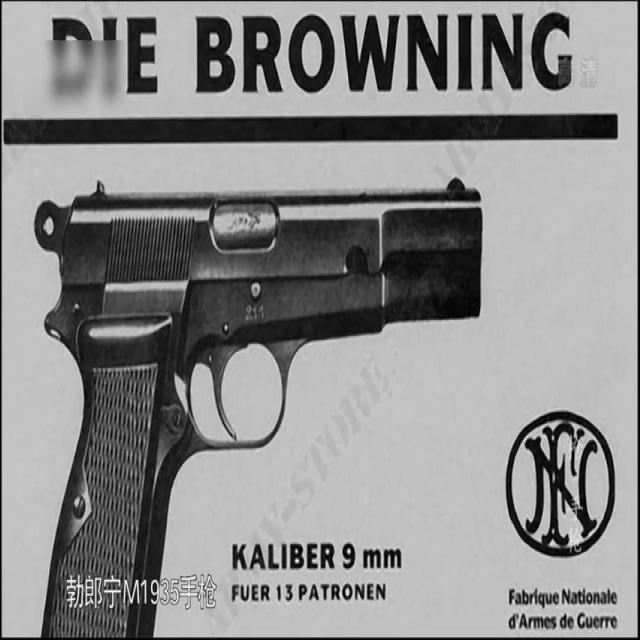Hand-Gun: (32, 163, 486, 640)
